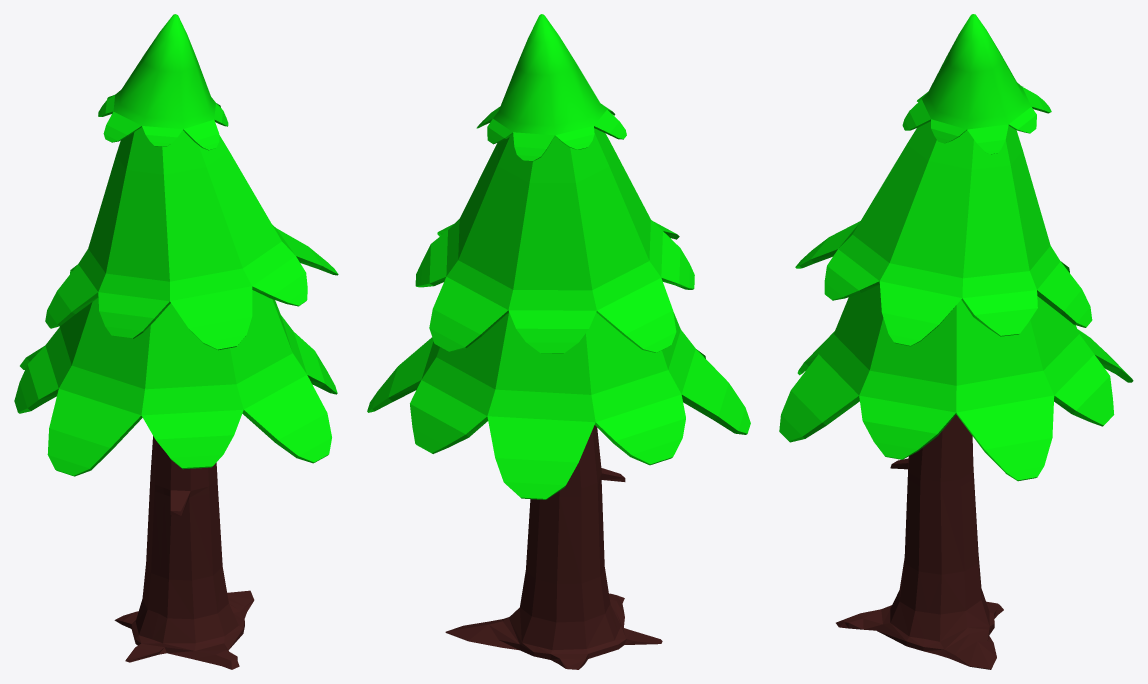
Rendered from 2,5_Munt.FBX.
3 views of the same model, side by side, from view 1: azimuth 30°, elevation 25°; view 2: azimuth 150°, elevation 25°; view 3: azimuth 270°, elevation 25° (orthographic). The views are drawn at different scales.
Visible parts, largest first — view 1: 3levsTort001; view 2: 3levsTort001; view 3: 3levsTort001.
Part boxes in pixels (box(x1,y1,x2,y2)): 3levsTort001: box(14, 14, 338, 669); 3levsTort001: box(367, 14, 750, 669); 3levsTort001: box(779, 14, 1133, 669).
Bounding box in the file's own units: 1.26 × 2.43 × 1.27.
